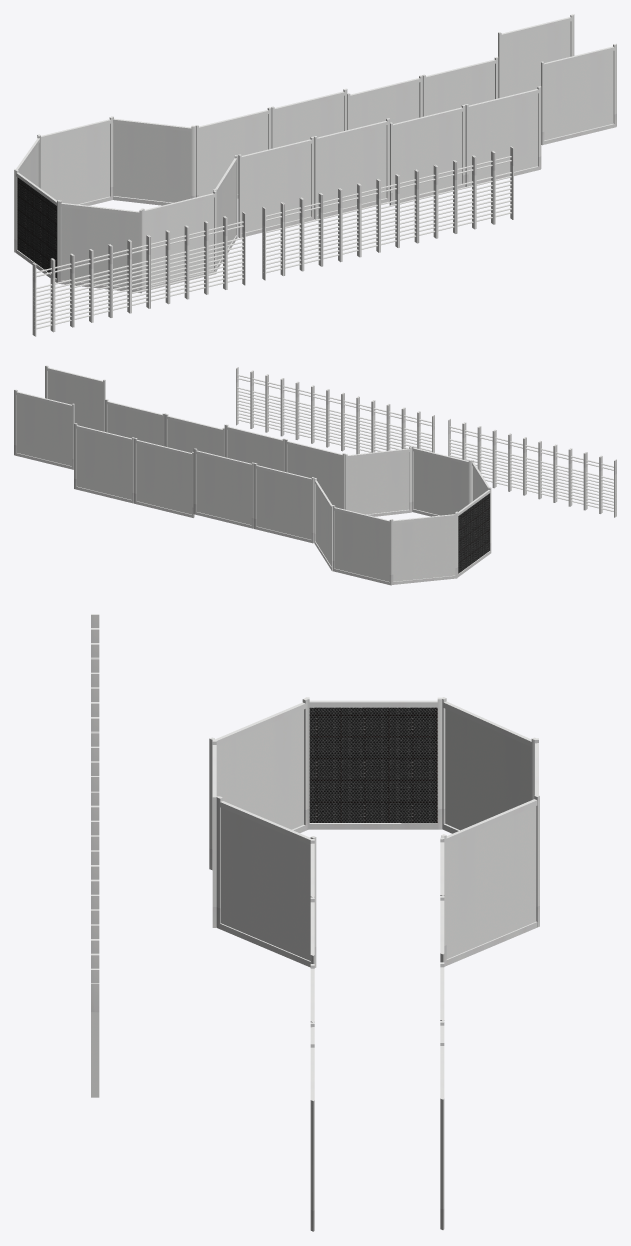
The model's file is CageFight_Fence.fbx.
3 views of the same model, one above another, from view 1: azimuth 30°, elevation 25°; view 2: azimuth 150°, elevation 25°; view 3: azimuth 270°, elevation 25° (orthographic). The views are drawn at different scales.
Visible parts, largest first — view 1: konrad_cageFight_metal_fence_model; view 2: konrad_cageFight_metal_fence_model; view 3: konrad_cageFight_metal_fence_model.
Boxes of the visible parts, x1,y1,x2,y2 form: konrad_cageFight_metal_fence_model: (14,14,616,336); konrad_cageFight_metal_fence_model: (14,365,616,585); konrad_cageFight_metal_fence_model: (91,614,539,1231).
Bounding box in the file's own units: 34.06 × 5.31 × 12.82.
2 materials, 2 textured.
